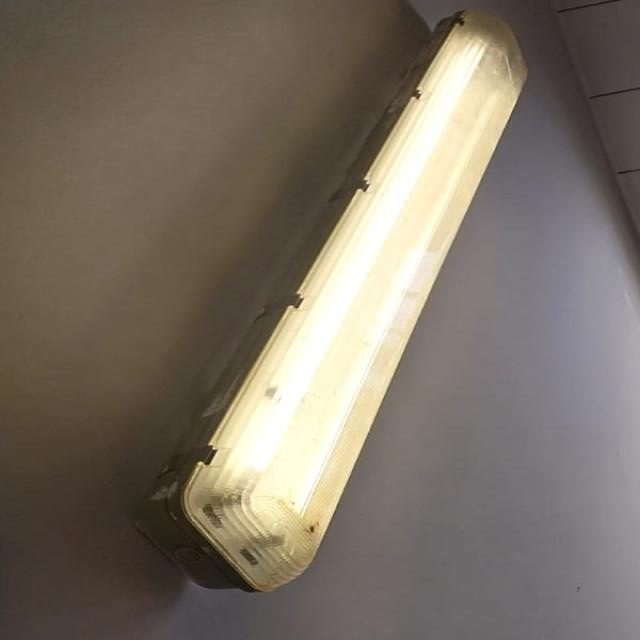fluorescent tube: (114, 1, 586, 616)
